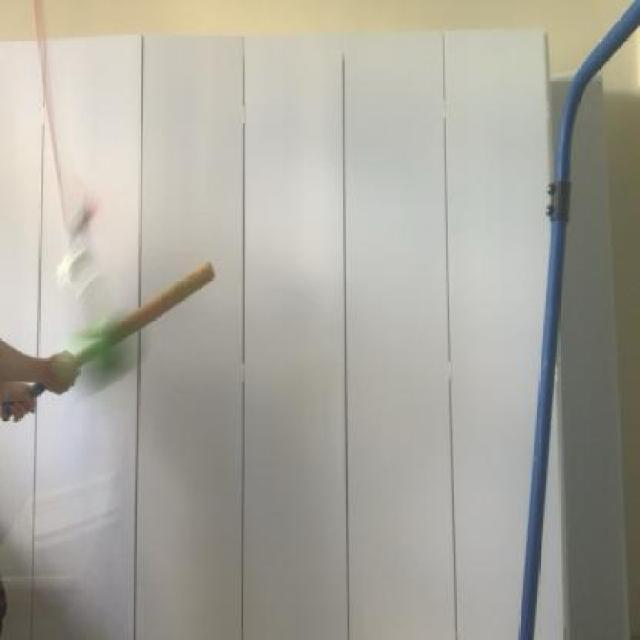baseball: (53, 300, 155, 398)
